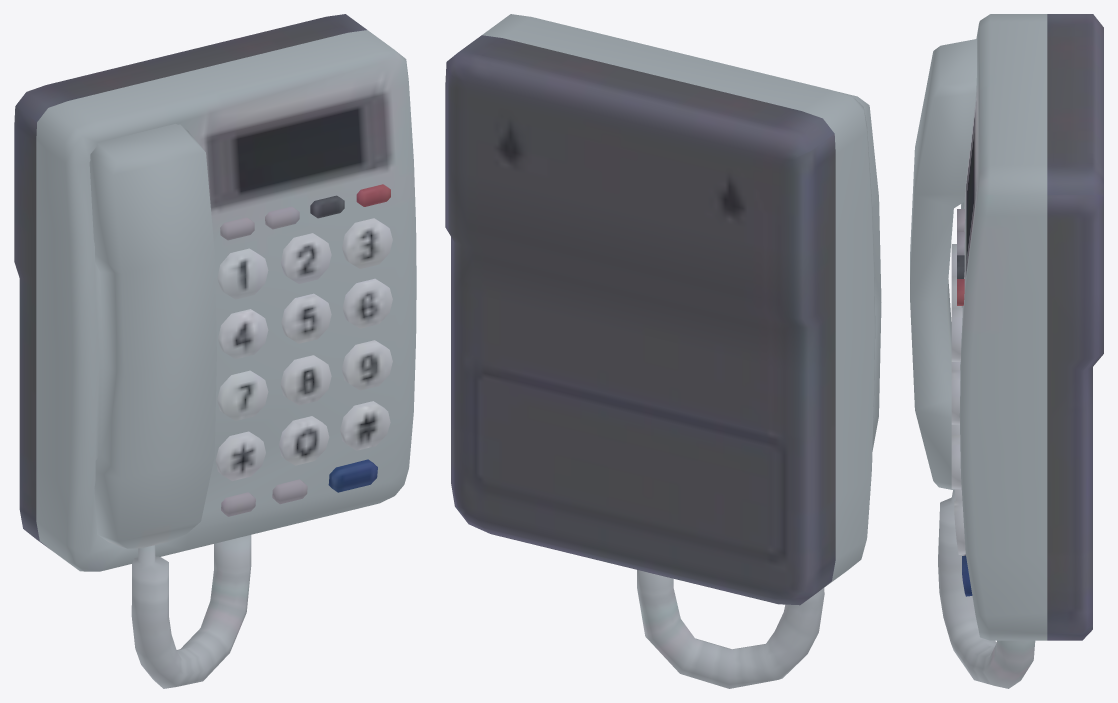
3 views of the same model, side by side, from view 1: azimuth 30°, elevation 25°; view 2: azimuth 150°, elevation 25°; view 3: azimuth 270°, elevation 25° (orthographic). The views are drawn at different scales.
Size of the model in its own units: 4 by 6.5 by 1.87.
Materials: 1 (1 with a texture image).
